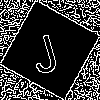J: (25, 25, 62, 75)
